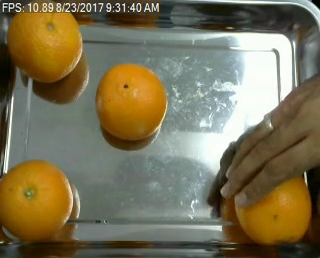Orange: (1, 159, 73, 240), (96, 61, 168, 140), (6, 12, 83, 83)
